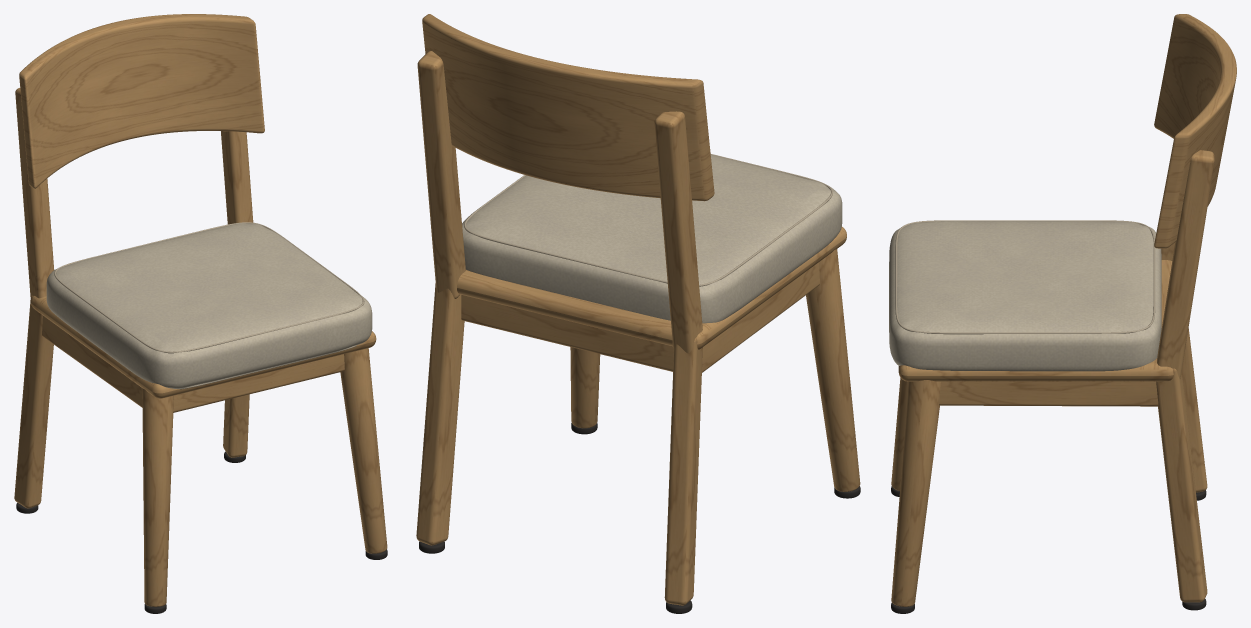
Rendered from cream-arc-chair.glb.
The picture shows the model from 3 angles, left to right: view 1: azimuth 30°, elevation 25°; view 2: azimuth 150°, elevation 25°; view 3: azimuth 270°, elevation 25°; orthographic projection. The views are drawn at different scales.
Visible parts, largest first — view 1: Linen | shaped dining seat, Oak | broad steam-bent backrest, Oak | front tapered leg, Oak | front tapered leg.001, Oak | splayed rear leg, Oak | gently raked back stile, Oak | front seat apron, Oak | seat foundation, Oak | gently raked back stile.001, Oak | side seat apron, Oak | splayed rear leg.001, Linen | shaped dining seat | upper tailored welt; view 2: Linen | shaped dining seat, Oak | broad steam-bent backrest, Oak | splayed rear leg.001, Oak | splayed rear leg, Oak | gently raked back stile, Oak | seat foundation, Oak | front tapered leg, Oak | gently raked back stile.001, Oak | back seat apron, Oak | side seat apron, Oak | front tapered leg.001, Linen | shaped dining seat | upper tailored welt; view 3: Linen | shaped dining seat, Oak | broad steam-bent backrest, Oak | front tapered leg.001, Oak | splayed rear leg.001, Oak | gently raked back stile.001, Oak | side seat apron.001, Oak | seat foundation, Oak | splayed rear leg, Linen | shaped dining seat | upper tailored welt, Oak | front tapered leg.
Boxes of the visible parts, x1,y1,x2,y2 form: Linen | shaped dining seat: [46, 223, 372, 388]; Oak | broad steam-bent backrest: [19, 14, 264, 188]; Oak | front tapered leg: [142, 388, 173, 606]; Oak | front tapered leg.001: [340, 348, 387, 553]; Oak | splayed rear leg: [14, 295, 53, 508]; Oak | gently raked back stile: [15, 88, 54, 298]; Oak | front seat apron: [173, 354, 344, 412]; Oak | seat foundation: [31, 296, 376, 398]; Oak | gently raked back stile.001: [221, 131, 253, 224]; Oak | side seat apron: [42, 316, 142, 407]; Oak | splayed rear leg.001: [223, 394, 249, 457]; Linen | shaped dining seat | upper tailored welt: [54, 222, 364, 353]; Linen | shaped dining seat: [462, 155, 842, 323]; Oak | broad steam-bent backrest: [422, 14, 714, 201]; Oak | splayed rear leg.001: [416, 283, 464, 545]; Oak | splayed rear leg: [664, 337, 702, 605]; Oak | gently raked back stile: [654, 111, 702, 353]; Oak | seat foundation: [457, 226, 846, 349]; Oak | front tapered leg: [806, 249, 860, 491]; Oak | gently raked back stile.001: [417, 51, 465, 298]; Oak | back seat apron: [461, 295, 673, 371]; Oak | side seat apron: [702, 262, 819, 372]; Oak | front tapered leg.001: [570, 347, 600, 428]; Linen | shaped dining seat | upper tailored welt: [464, 154, 832, 286]; Linen | shaped dining seat: [889, 221, 1161, 371]; Oak | broad steam-bent backrest: [1154, 14, 1236, 248]; Oak | front tapered leg.001: [891, 380, 940, 606]; Oak | splayed rear leg.001: [1156, 368, 1207, 602]; Oak | gently raked back stile.001: [1157, 150, 1214, 382]; Oak | side seat apron.001: [939, 381, 1158, 406]; Oak | seat foundation: [898, 260, 1173, 381]; Oak | splayed rear leg: [1182, 328, 1207, 492]; Linen | shaped dining seat | upper tailored welt: [895, 220, 1155, 334]; Oak | front tapered leg: [891, 377, 908, 490].
Bounding box in the file's own units: 0.502 × 0.8945 × 0.5829.
Materials: 4 (2 with a texture image).
